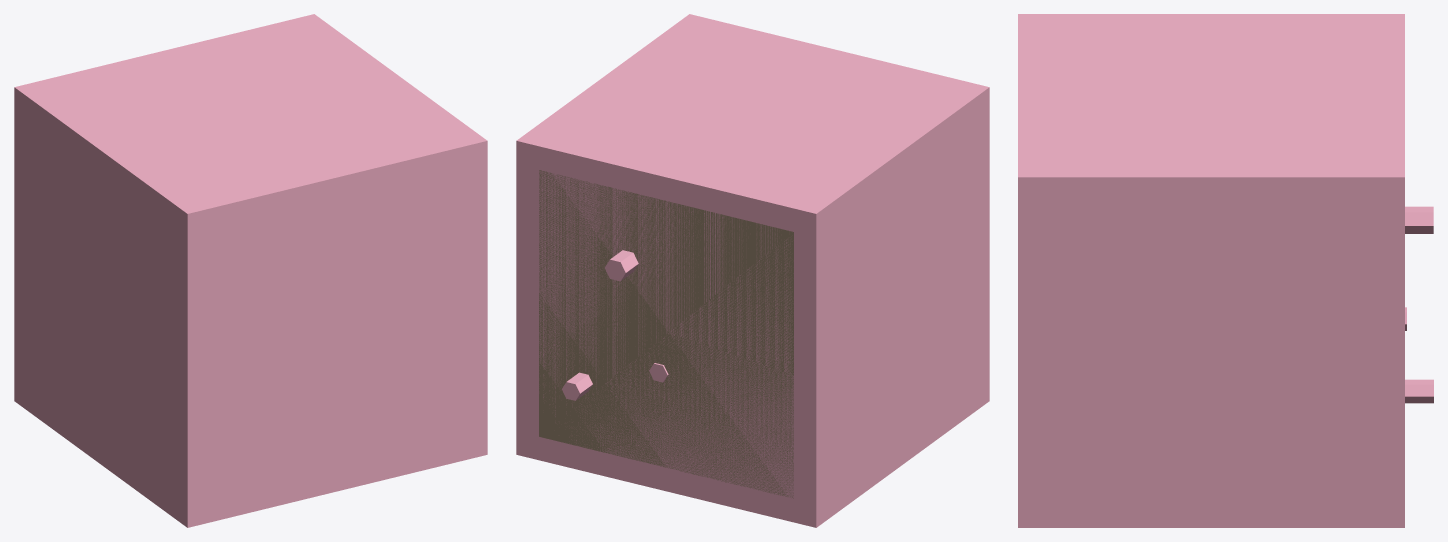
The model's file is 22_bloomcoral.glb.
The picture shows the model from 3 angles, left to right: view 1: azimuth 30°, elevation 25°; view 2: azimuth 150°, elevation 25°; view 3: azimuth 270°, elevation 25°; orthographic projection. The views are drawn at different scales.
Parts seen in each view (by area): view 1: Core; view 2: Core, Soil, Coral_2, Coral_0; view 3: Core, Coral_2, Coral_0.
Boxes of the visible parts, x1,y1,x2,y2 form: Core: (14,14,487,527); Core: (516,14,989,527); Soil: (539,170,793,498); Coral_2: (605,250,638,281); Coral_0: (562,372,592,400); Core: (1018,14,1404,527); Coral_2: (1405,206,1433,233); Coral_0: (1405,379,1433,403).
Size of the model in its own units: 1 by 1 by 1.07.
